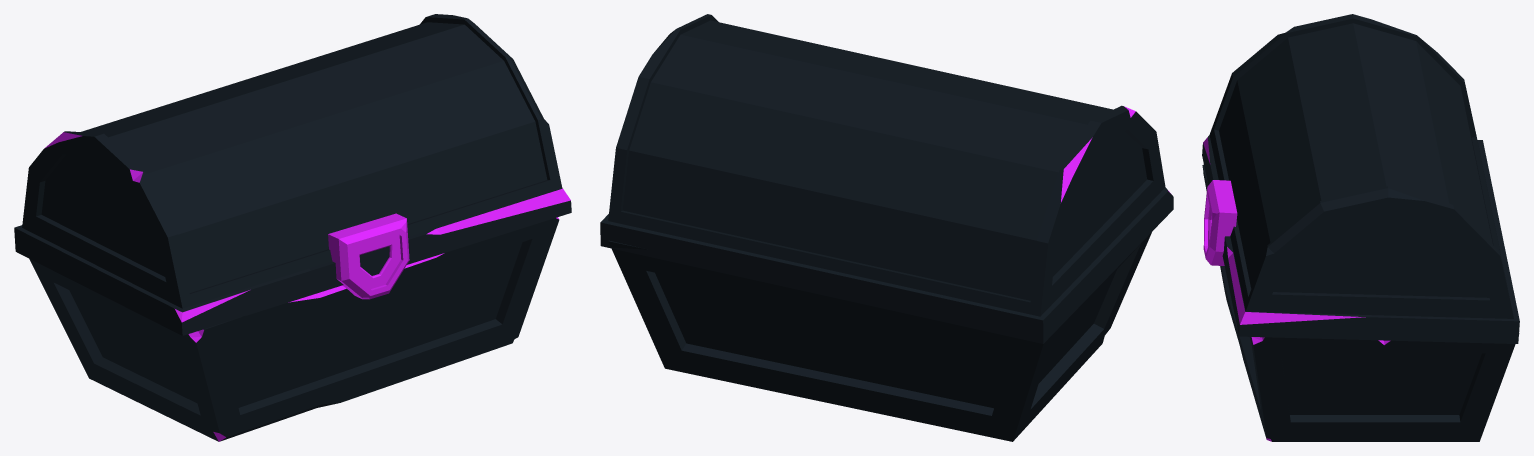
The model's file is puzzle_chest.glb.
3 renders of one model, left to right at view 1: azimuth 30°, elevation 25°; view 2: azimuth 150°, elevation 25°; view 3: azimuth 270°, elevation 25°, orthographic. The views are drawn at different scales.
Visible parts, largest first — view 1: Plane.002; view 2: Plane.002; view 3: Plane.002.
Part boxes in pixels (x1,y1,x2,y2): Plane.002: [14, 14, 571, 441]; Plane.002: [600, 14, 1173, 441]; Plane.002: [1202, 14, 1519, 441].
Bounding box in the file's own units: 4.71 × 3.08 × 3.17.
Materials: 1 (1 with a texture image).
